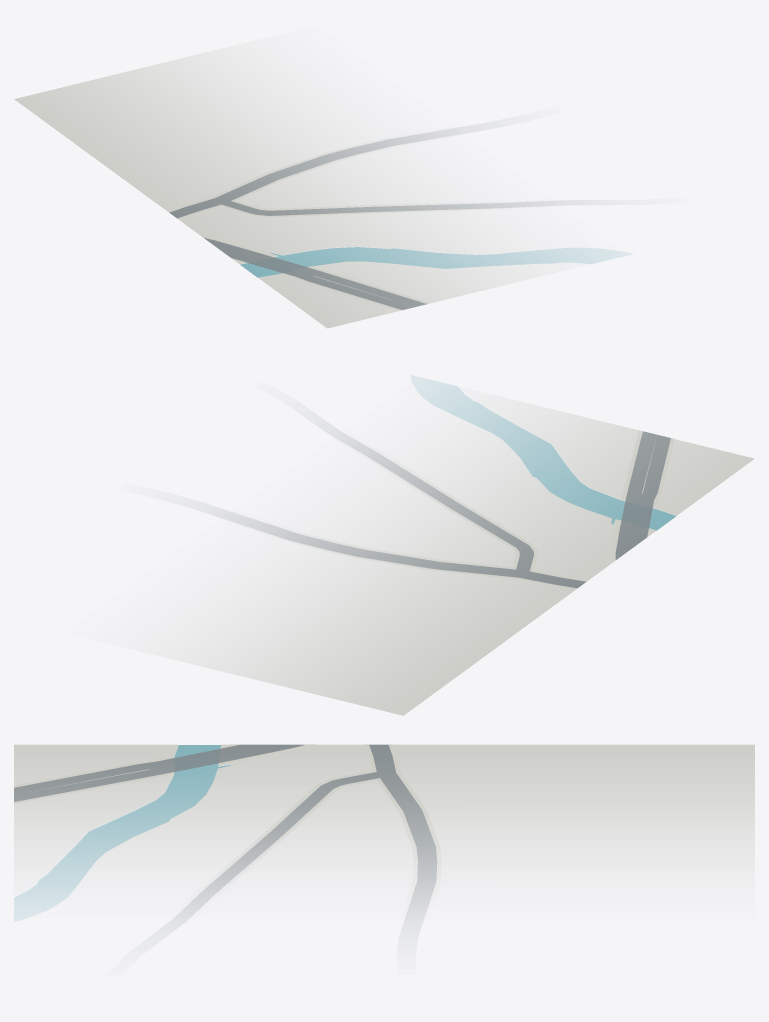
3 renders of one model, top to bottom at view 1: azimuth 30°, elevation 25°; view 2: azimuth 150°, elevation 25°; view 3: azimuth 270°, elevation 25°, orthographic. The views are drawn at different scales.
Visible parts, largest first — view 1: city; view 2: city; view 3: city.
Part boxes in pixels (x1=…): city: x1=14, y1=41, x2=631, y2=328; city: x1=136, y1=375, x2=754, y2=715; city: x1=14, y1=744, x2=754, y2=929.
Bounding box in the file's own units: 420 × 0.4 × 500.
